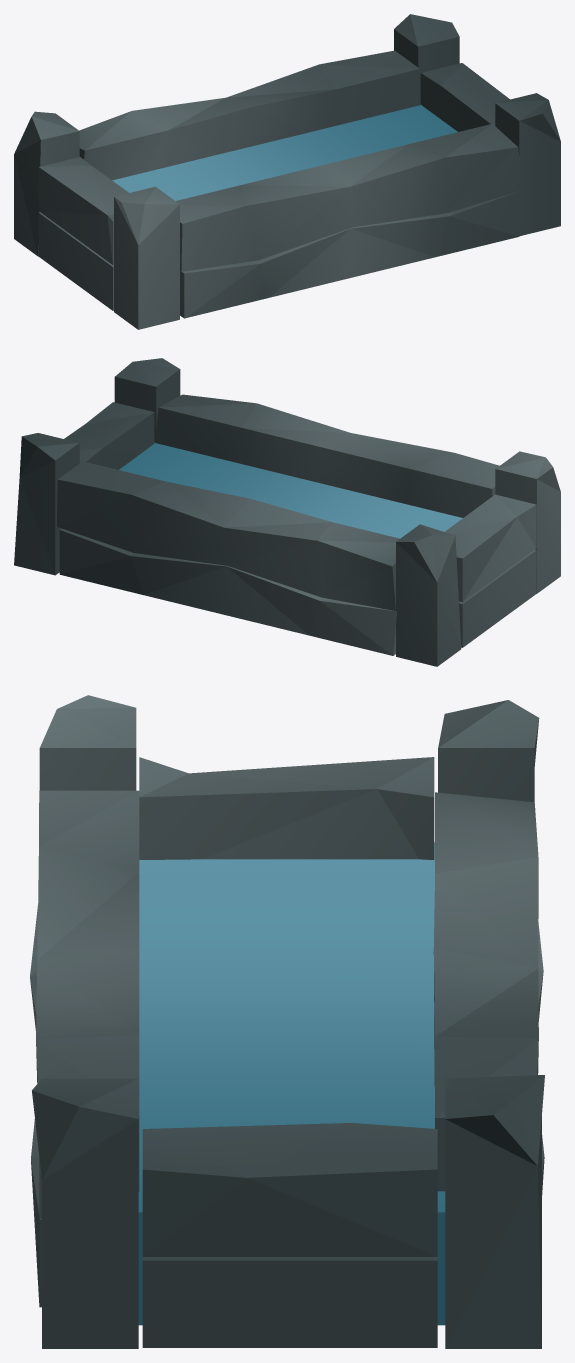
Rendered from WaterTrough.gltf.
3 views of the same model, one above another, from view 1: azimuth 30°, elevation 25°; view 2: azimuth 150°, elevation 25°; view 3: azimuth 270°, elevation 25° (orthographic). The views are drawn at different scales.
Parts seen in each view (by area): view 1: WaterTrough_Stone, WaterTrough_Water; view 2: WaterTrough_Stone, WaterTrough_Water; view 3: WaterTrough_Stone, WaterTrough_Water.
Part boxes in pixels (box(x1,y1,x2,y2)): WaterTrough_Stone: box(14, 14, 560, 329); WaterTrough_Water: box(112, 105, 457, 200); WaterTrough_Stone: box(14, 358, 560, 666); WaterTrough_Water: box(119, 442, 462, 538); WaterTrough_Stone: box(30, 695, 544, 1348); WaterTrough_Water: box(138, 842, 445, 1325).
Size of the model in its own units: 2.7 by 0.7502 by 1.4.
Materials: 1 (1 with a texture image).
